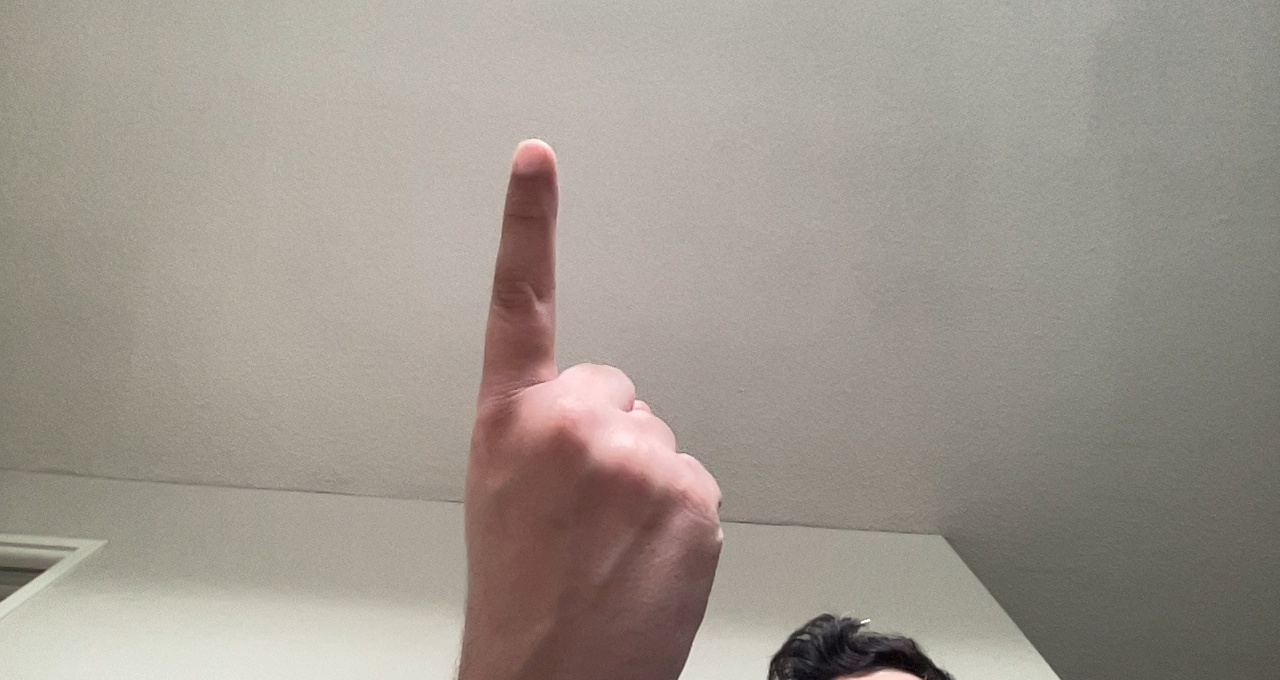fingerup: (459, 134, 731, 664)
